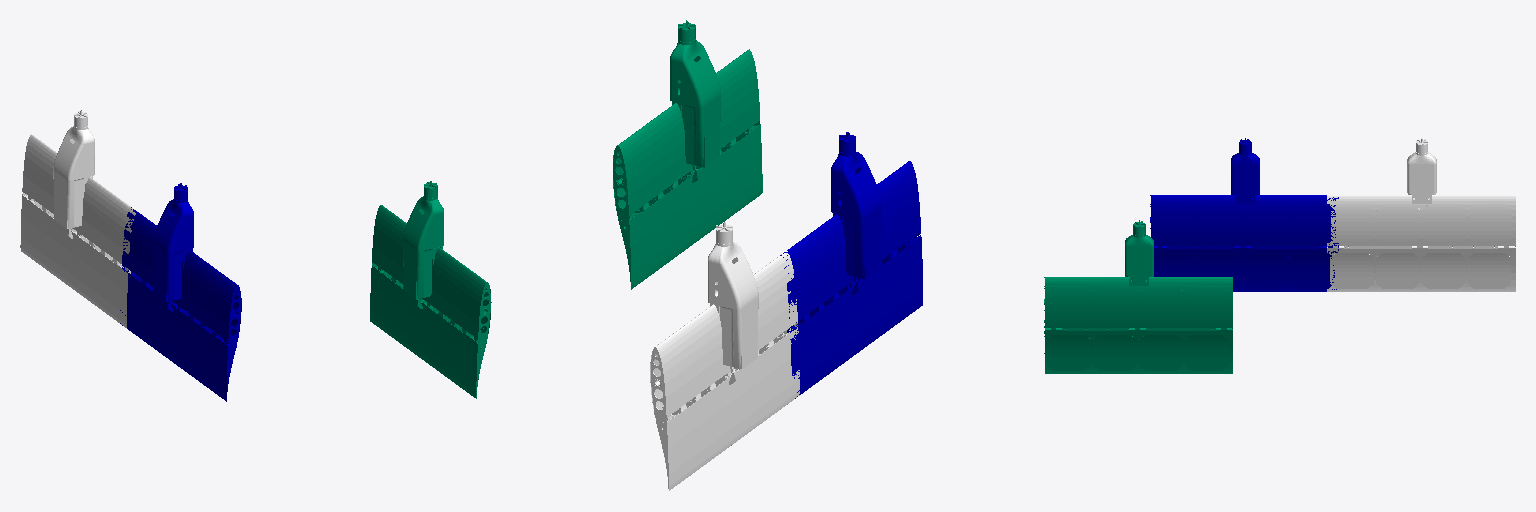
URDF robot description (physics):
<?xml version="1.0"?>
<robot name="physics">


 <!--                                  LINK 0                                   -->
  <link name="link0">
    <visual name='link0_visual'>
        <origin rpy="0 -1.57 0" xyz="0.0 .25 0"/>

        <geometry>
            <mesh filename="package://meshes/single_segment.STL" scale="0.001 0.001 0.001"/>
        </geometry>
      <material name="white">
        <color rgba="1 1 1 1"/>
      </material>
    </visual>
    
    <collision name='link0_collision'>
        <origin rpy="0 0 0" xyz="0 0 0 "/>

        <geometry>
            <box size="0.7 0.7 0.1"/>
        </geometry>
    </collision>
    
    <inertial>
      <mass value="20"/>
      <inertia ixx="1.0" ixy="0.0" ixz="0.0" iyy="1.0" iyz="0.0" izz="1.0"/>
    </inertial>
  </link>
 <!--                                  LINK 1                                   -->
 <link name="link1">
    <visual name='link1_visual'>
        <origin rpy="0 -1.57 0" xyz="0.0 -.25 0"/>

        <geometry>
            <mesh filename="package://meshes/single_segment.STL" scale="0.001 0.001 0.001"/>
        </geometry>

      <material name="blue">
        <color rgba="0 0 .8 1"/>
      </material>
    </visual>
    
    <collision name='link1_collision'>
        <origin rpy="0 0 0" xyz="0 0 0 "/>

        <geometry>
            <box size="0.7 0.7 0.1"/>
        </geometry>
    </collision>
    
    <inertial>
      <mass value="20"/>
      <inertia ixx="1.0" ixy="0.0" ixz="0.0" iyy="1.0" iyz="0.0" izz="1.0"/>
    </inertial>
  </link>


   <!--                                  LINK 2                                  -->
 <link name="link2">
    <visual name='link2_visual'>
        <origin rpy="0 -1.57 0" xyz="0.0 -.55 0"/>

        <geometry>
            <mesh filename="package://meshes/single_segment.STL" scale="0.001 0.001 0.001"/>
        </geometry>
    </visual>
    
    <collision name='link2_collision'>
        <origin rpy="0 0 0" xyz="0 0 0 "/>

        <geometry>
            <box size="0.7 0.7 0.1"/>
        </geometry>
    </collision>
    
    <inertial>
      <mass value="20"/>
      <inertia ixx="1.0" ixy="0.0" ixz="0.0" iyy="1.0" iyz="0.0" izz="1.0"/>
    </inertial>
  </link>


    <joint name="h0_joint" type="revolute">
    <axis xyz="0 0 1"/>
    <parent link="link1"/>
    <child link="link0"/>
    <origin rpy="0 0 0" xyz="0 0 0"/>
    <limit effort="100" velocity="100" lower="0" upper="1.57"/>
    <joint_properties damping="0.0" friction="0.0"/>
  </joint>

      <joint name="h1_joint" type="revolute">
    <axis xyz="0 0 1"/>
    <parent link="link2"/>
    <child link="link1"/>
    <origin rpy="0 0 0" xyz="-.55 0 0"/>
    <limit effort="100" velocity="100" lower="0" upper="1.57"/>
    <joint_properties damping="0.0" friction="0.0"/>
  </joint>



</robot>

--- What the picture shows (computed from the rendered views, not written in the file) ---
3 views of the same robot in one strip: view 1: azimuth 30°, elevation 25°; view 2: azimuth 150°, elevation 25°; view 3: azimuth 270°, elevation 25° (orthographic).
Model physics with 3 links and 2 joints (2 revolute), rooted at link2, posed all joints at 0.
Links seen in each view (by area): view 1: link2, link1, link0; view 2: link2, link0, link1; view 3: link2, link0, link1.
Boxes of the visible links, left/top/right/bottom form: link2: left=370, top=181, right=491, bottom=398; link1: left=120, top=183, right=241, bottom=401; link0: left=20, top=110, right=137, bottom=327; link2: left=613, top=20, right=762, bottom=289; link0: left=650, top=222, right=799, bottom=490; link1: left=780, top=132, right=922, bottom=398; link2: left=1044, top=220, right=1232, bottom=373; link0: left=1327, top=138, right=1515, bottom=291; link1: left=1150, top=138, right=1338, bottom=291.
Size in the robot's own frame: 0.6314 by 1.33 by 0.4901 metres.
3 mesh visuals loaded from 1 distinct referenced files (1 binary STL).